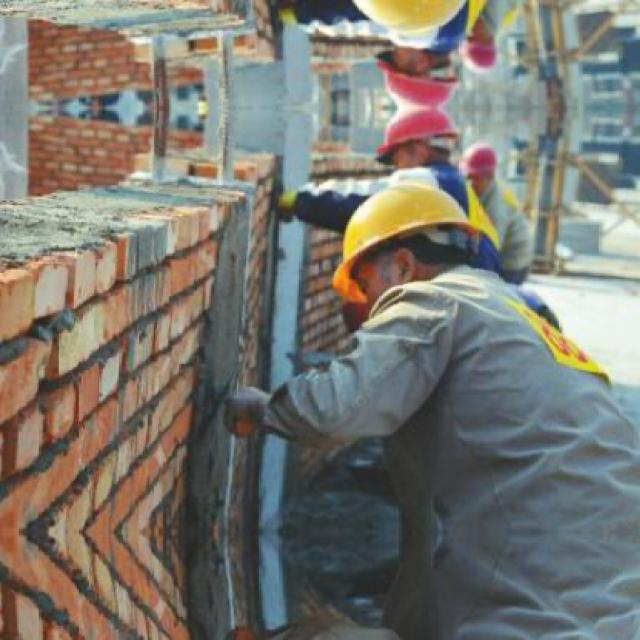helmet: (326, 165, 508, 319), (325, 0, 508, 52), (379, 40, 463, 110), (379, 108, 463, 177), (462, 24, 500, 76), (462, 142, 500, 193)
